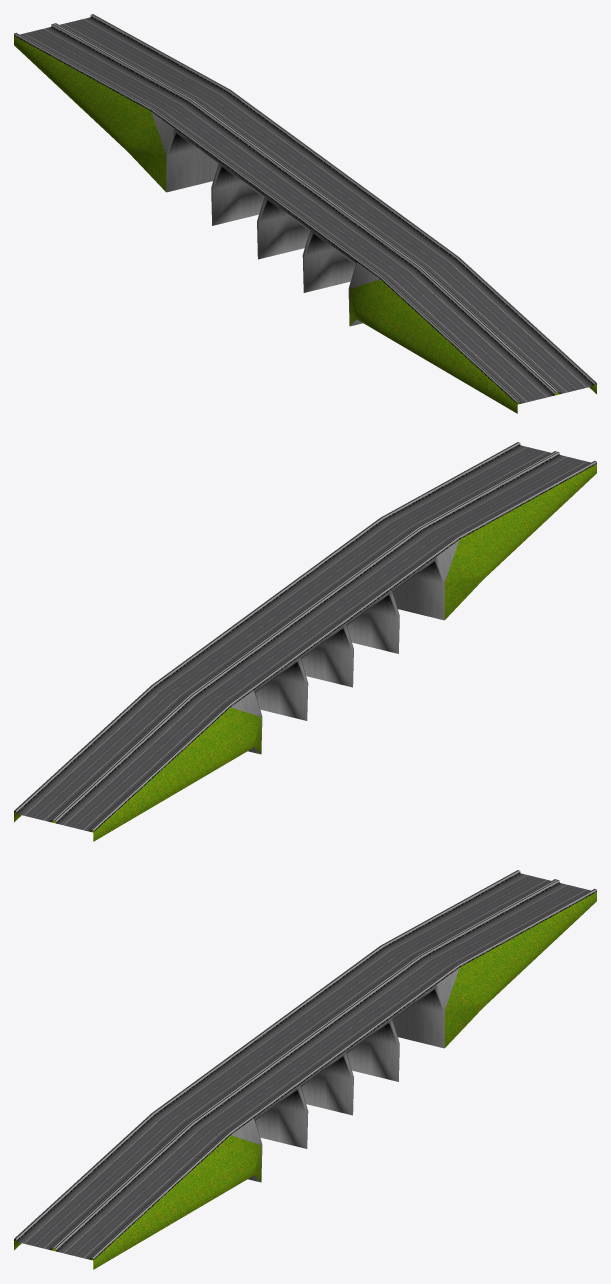
The model's file is brug_snelweg_1c.fbx.
The picture shows the model from 3 angles, top to bottom: view 1: azimuth 30°, elevation 25°; view 2: azimuth 150°, elevation 25°; view 3: azimuth 330°, elevation 25°; orthographic projection.
Visible parts, largest first — view 1: brug_snelweg_1c; view 2: brug_snelweg_1c; view 3: brug_snelweg_1c.
Boxes of the visible parts, x1=… form: brug_snelweg_1c: x1=14, y1=14, x2=596, y2=413; brug_snelweg_1c: x1=14, y1=442, x2=596, y2=841; brug_snelweg_1c: x1=14, y1=870, x2=596, y2=1269.
Bounding box in the file's own units: 3200 × 1563 × 22003.
